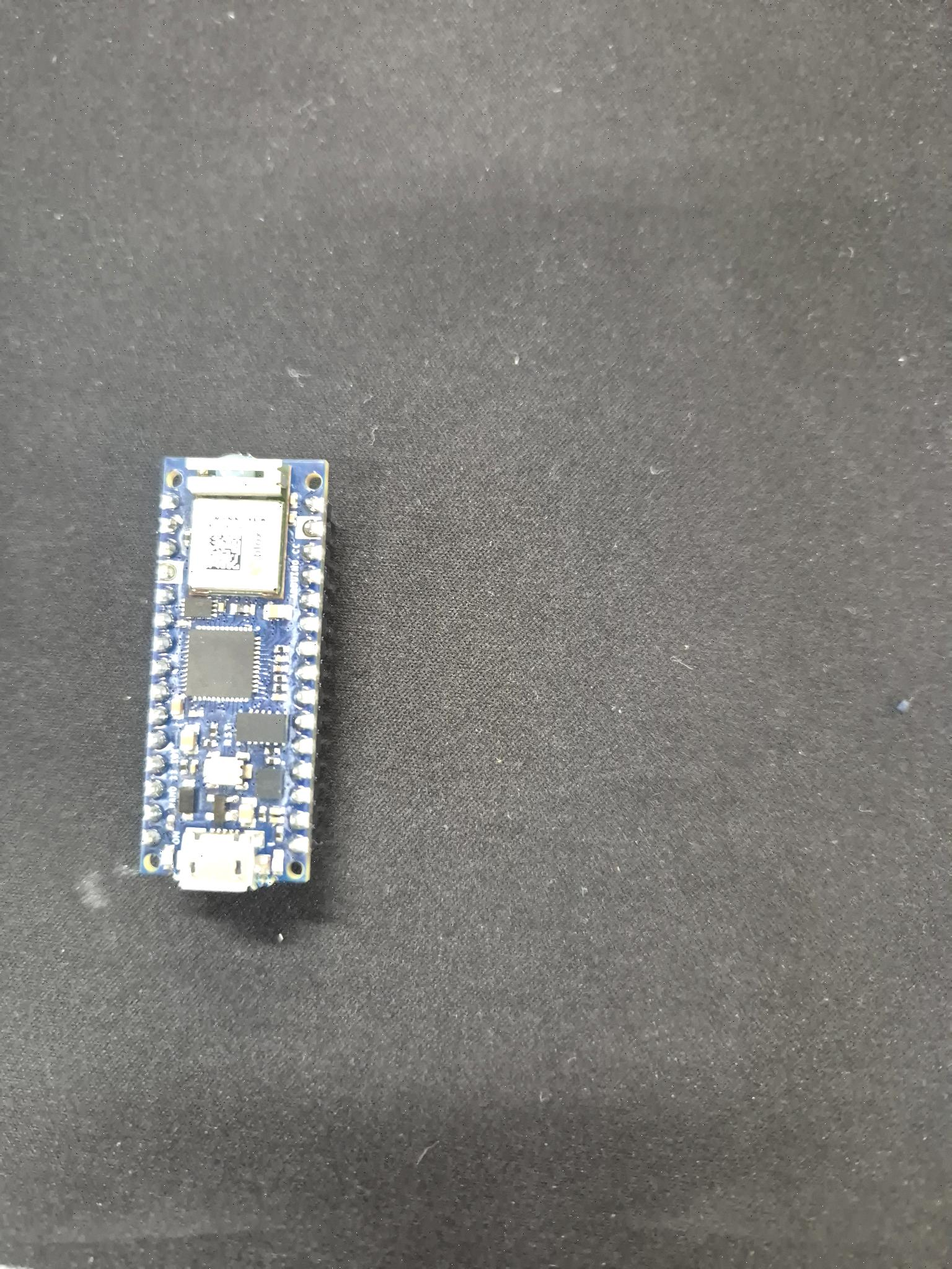arduino-nano-iot-33: (142, 456, 326, 888)
